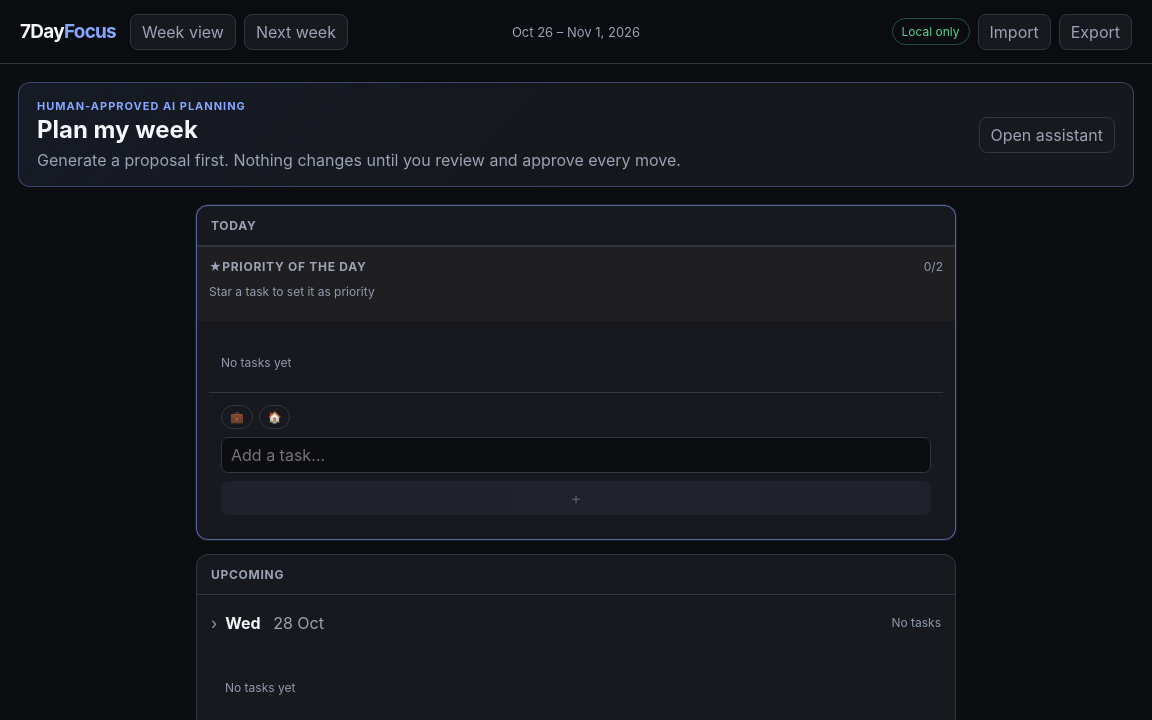
Test: P01 local planner smoke flow › adds a task and persists it in local browser storage
Type "Review the planner baseline" into the field with placeholder "Add a task…" at (576, 455), box [221,437,931,473]
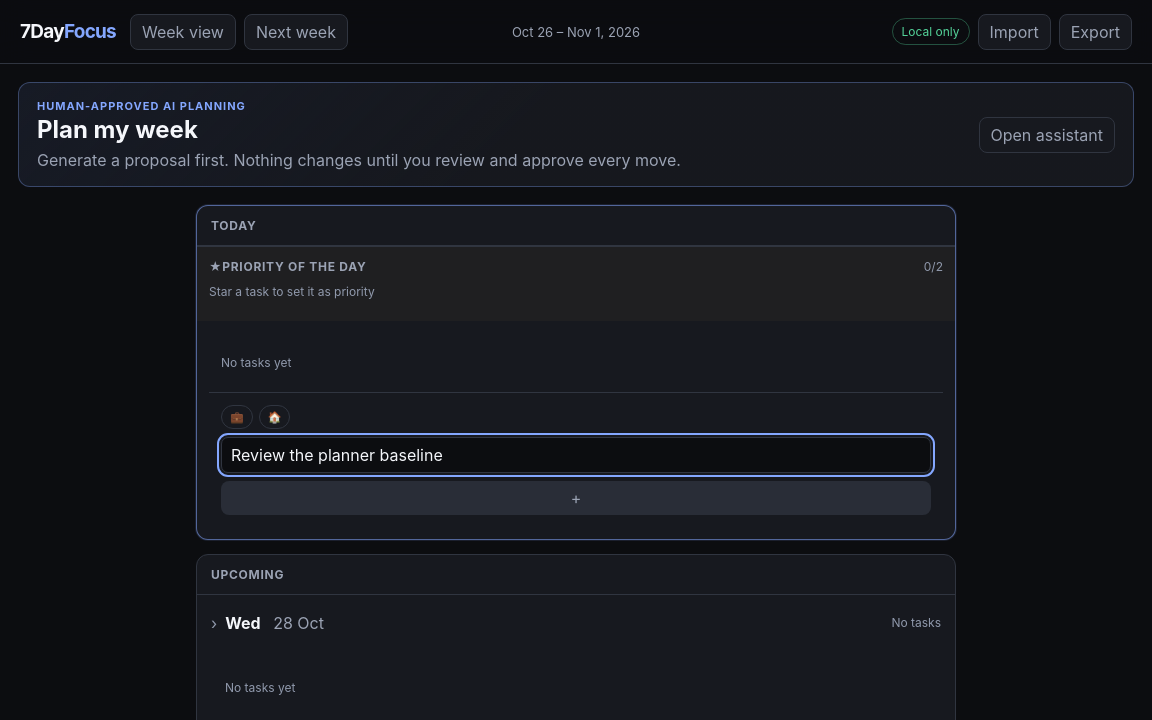
Click the button named "Add task" at (576, 498), box [221,481,931,515]
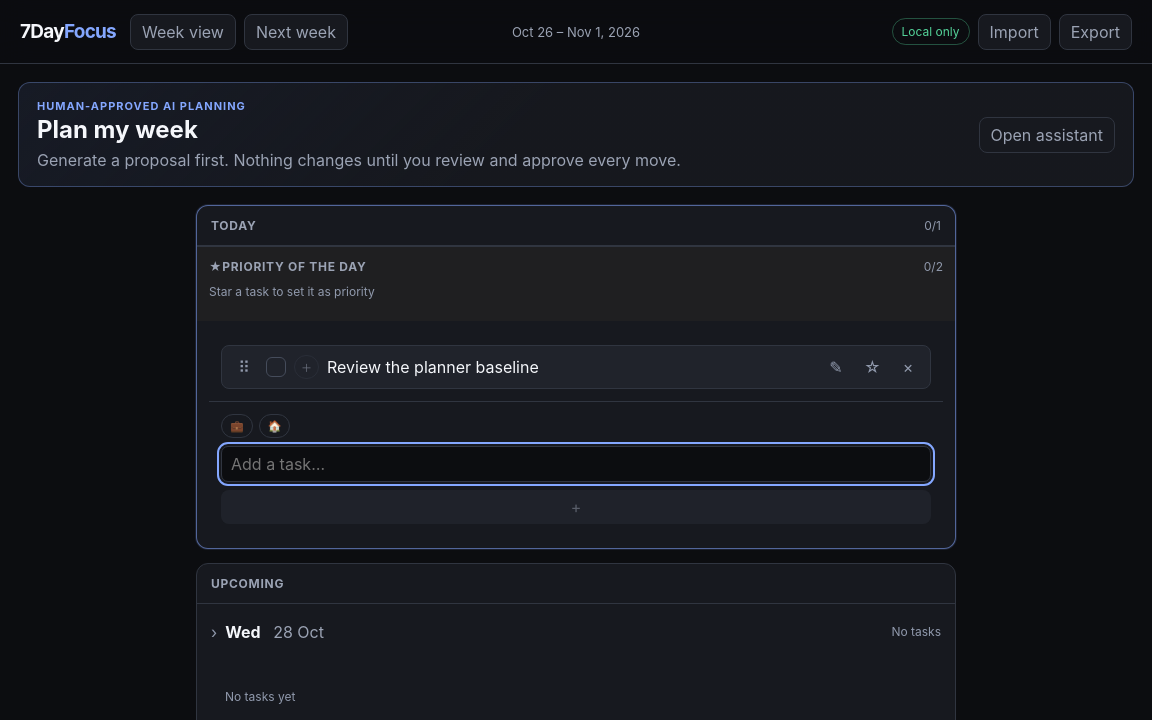
Expected: the text "Review the planner baseline" is shown, [327,357,539,377]
